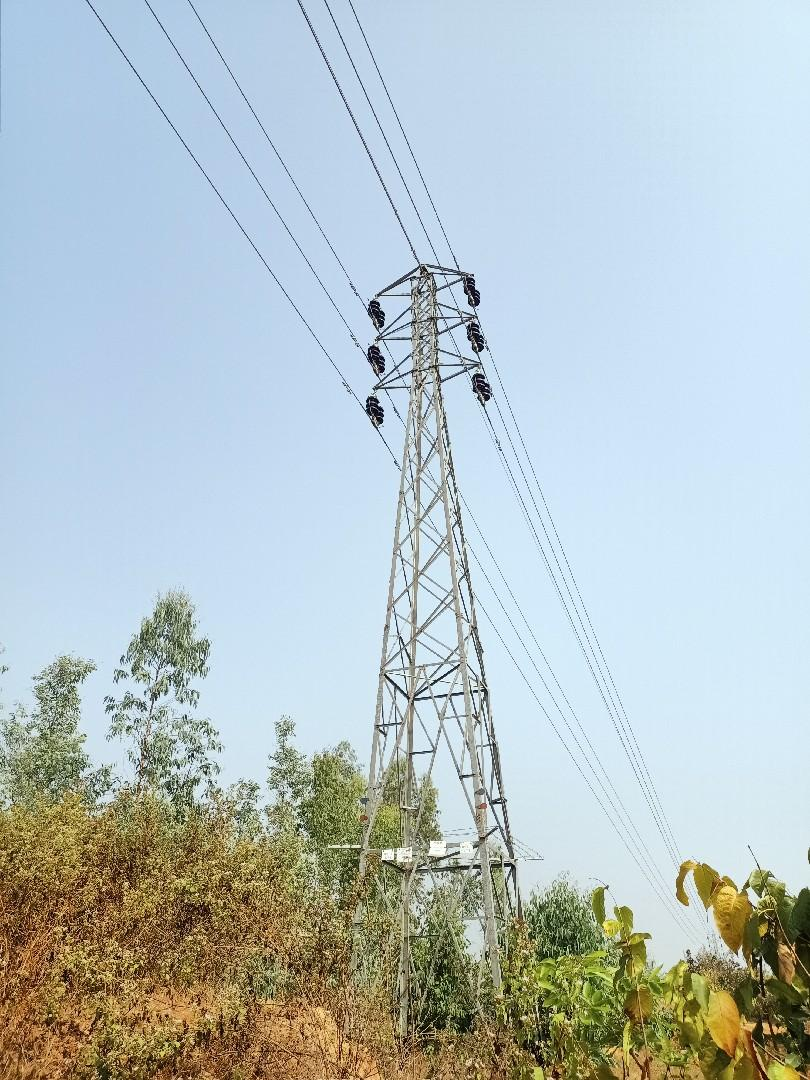GSM Antenna: (352, 260, 516, 833)
